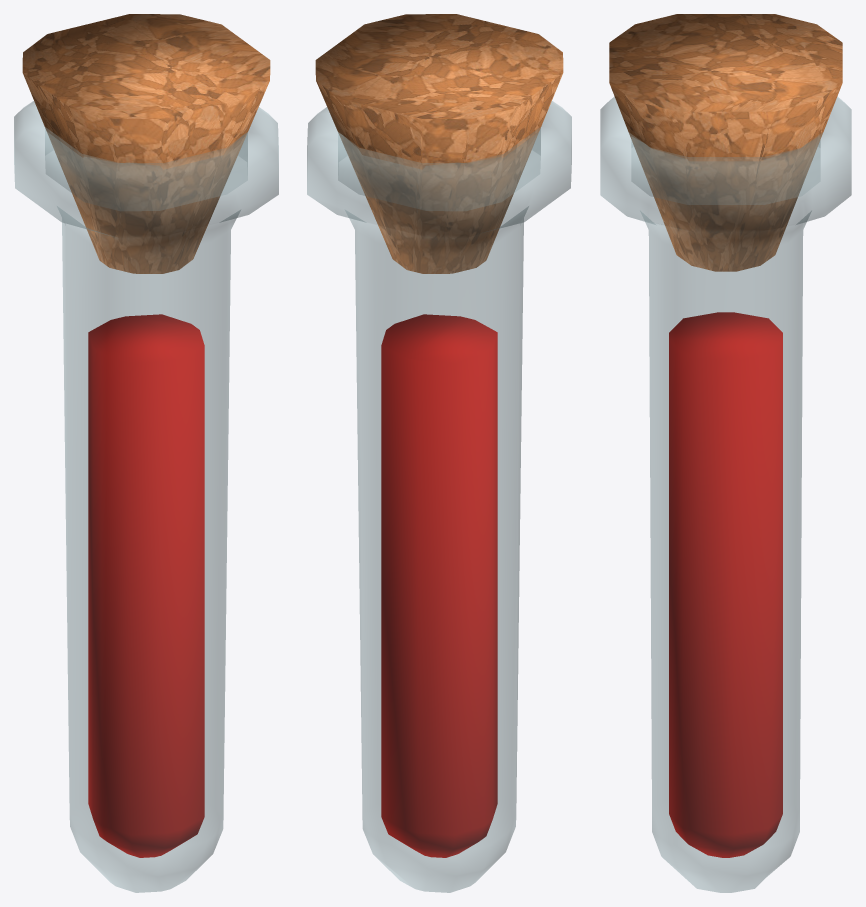
File: tube_bottle.fbx
3 views of the same model, side by side, from view 1: azimuth 30°, elevation 25°; view 2: azimuth 150°, elevation 25°; view 3: azimuth 270°, elevation 25° (orthographic).
Parts seen in each view (by area): view 1: Bottle, Liquid, Cork; view 2: Bottle, Liquid, Cork; view 3: Bottle, Liquid, Cork.
Boxes of the visible parts, x1,y1,x2,y2 form: Bottle: [14, 101, 278, 892]; Liquid: [88, 314, 204, 857]; Cork: [22, 14, 270, 273]; Bottle: [307, 101, 571, 892]; Liquid: [381, 314, 497, 857]; Cork: [315, 14, 563, 273]; Bottle: [600, 97, 851, 892]; Liquid: [669, 312, 782, 857]; Cork: [609, 14, 842, 271].
Size of the model in its own units: 8.27 by 29.56 by 8.27.
